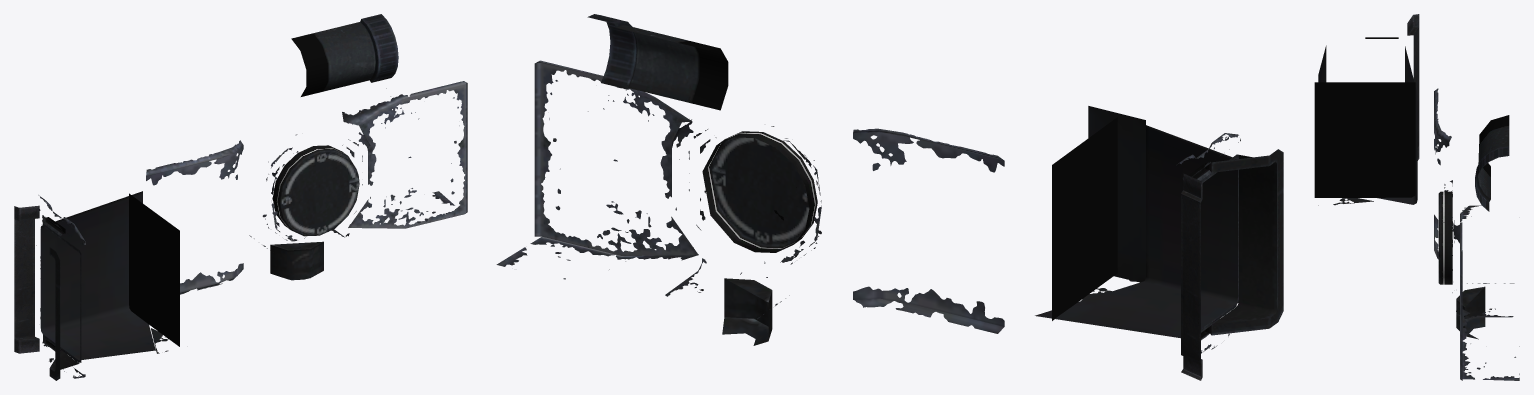
Rendered from t6_attach_optic_rangefinder_ads_LOD0.obj.
3 renders of one model, left to right at view 1: azimuth 30°, elevation 25°; view 2: azimuth 150°, elevation 25°; view 3: azimuth 270°, elevation 25°, orthographic. The views are drawn at different scales.
Visible parts, largest first — view 1: mtl_t6_attach_optic_rangefinder_camo1, mtl_t6_attach_optic_rangefinder, mtl_t6_attach_optic_rangefinder_camo2, mtl_t6_attach_optic_rangefinder_reticle, mtl_t6_attach_optic_rangefinder_reticle2; view 2: mtl_t6_attach_optic_rangefinder_camo1, mtl_t6_attach_optic_rangefinder, mtl_t6_attach_optic_rangefinder_camo2, mtl_t6_attach_optic_rangefinder_reticle, mtl_t6_attach_optic_rangefinder_reticle2; view 3: mtl_t6_attach_optic_rangefinder_reticle, mtl_t6_attach_optic_rangefinder_camo1, mtl_t6_attach_optic_rangefinder_camo2, mtl_t6_attach_optic_rangefinder.
Part boxes in pixels (x1,y1,x2,y2): mtl_t6_attach_optic_rangefinder_camo1: [14, 22, 467, 380]; mtl_t6_attach_optic_rangefinder: [40, 191, 155, 360]; mtl_t6_attach_optic_rangefinder_camo2: [268, 14, 398, 280]; mtl_t6_attach_optic_rangefinder_reticle: [129, 193, 179, 346]; mtl_t6_attach_optic_rangefinder_reticle2: [136, 228, 170, 313]; mtl_t6_attach_optic_rangefinder_camo1: [496, 24, 1283, 380]; mtl_t6_attach_optic_rangefinder: [1035, 125, 1237, 338]; mtl_t6_attach_optic_rangefinder_camo2: [587, 14, 821, 345]; mtl_t6_attach_optic_rangefinder_reticle: [1052, 117, 1117, 320]; mtl_t6_attach_optic_rangefinder_reticle2: [1065, 161, 1110, 275]; mtl_t6_attach_optic_rangefinder_reticle: [1314, 82, 1415, 197]; mtl_t6_attach_optic_rangefinder_camo1: [1318, 14, 1519, 380]; mtl_t6_attach_optic_rangefinder_camo2: [1438, 146, 1509, 339]; mtl_t6_attach_optic_rangefinder: [1318, 45, 1417, 204].
Bounding box in the file's own units: 10.54 × 4.73 × 3.95.
